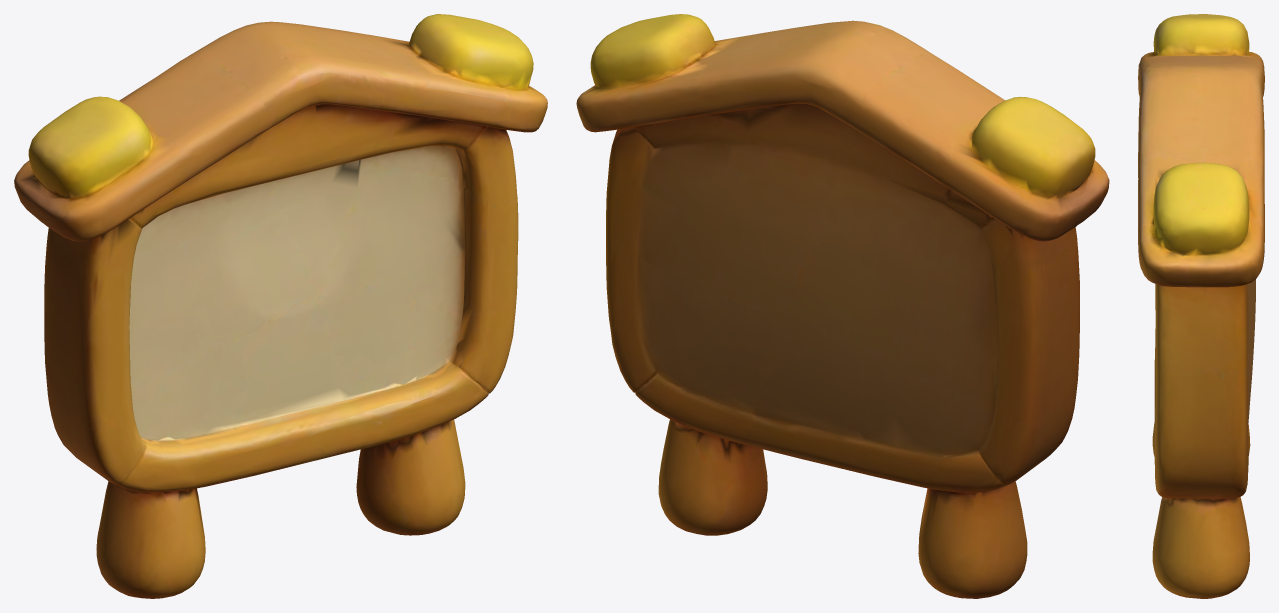
The model's file is goal-board.glb.
3 views of the same model, side by side, from view 1: azimuth 30°, elevation 25°; view 2: azimuth 150°, elevation 25°; view 3: azimuth 270°, elevation 25° (orthographic). The views are drawn at different scales.
Visible parts, largest first — view 1: tripo_node_f0b37020-d3fd-4c60-9487-1b773c768184; view 2: tripo_node_f0b37020-d3fd-4c60-9487-1b773c768184; view 3: tripo_node_f0b37020-d3fd-4c60-9487-1b773c768184.
Part boxes in pixels (x1,y1,x2,y2): tripo_node_f0b37020-d3fd-4c60-9487-1b773c768184: (14,14,547,598); tripo_node_f0b37020-d3fd-4c60-9487-1b773c768184: (576,14,1109,598); tripo_node_f0b37020-d3fd-4c60-9487-1b773c768184: (1138,14,1264,598).
Size of the model in its own units: 0.9923 by 1 by 0.2489.
1 material, 1 textured.
